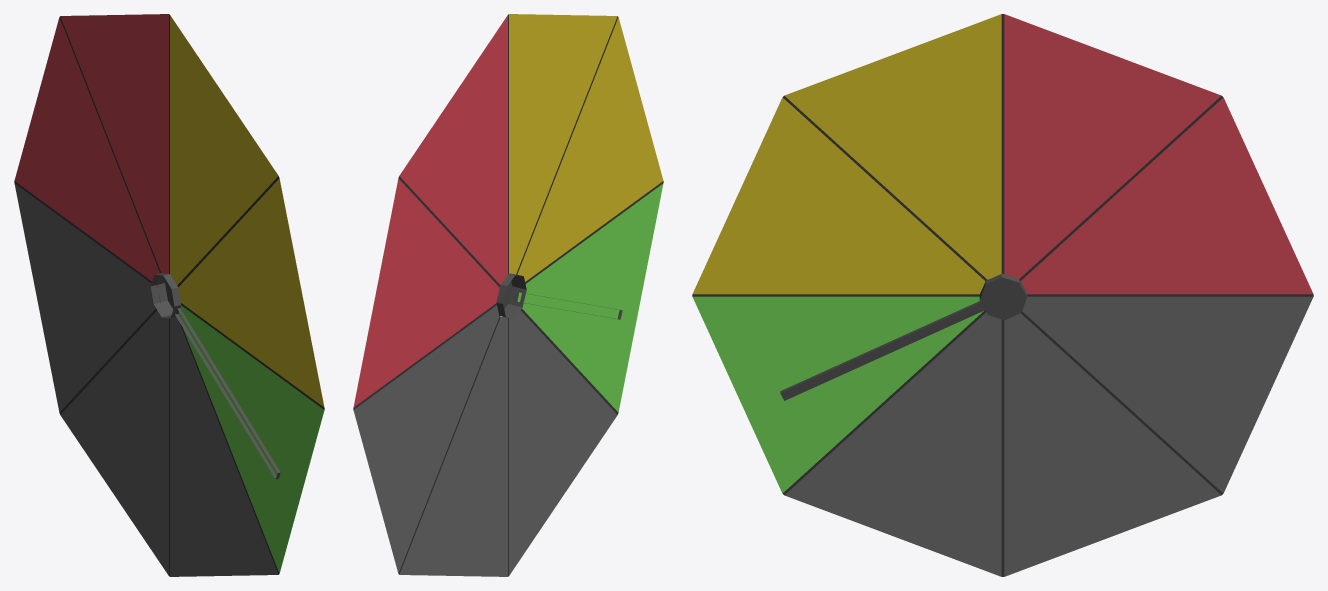
Rendered from DialGague.fbx.
The picture shows the model from 3 angles, left to right: view 1: azimuth 30°, elevation 25°; view 2: azimuth 150°, elevation 25°; view 3: azimuth 270°, elevation 25°; orthographic projection.
Parts seen in each view (by area): view 1: Gague, Dial; view 2: Gague, Dial; view 3: Gague, Dial.
Part boxes in pixels (x1,y1,x2,y2): Gague: (14,14,324,576); Dial: (151,273,280,479); Gague: (353,14,663,576); Dial: (496,273,622,319); Gague: (692,14,1313,576); Dial: (780,273,1027,400).
Size of the model in its own units: 5.31 by 200 by 200.
